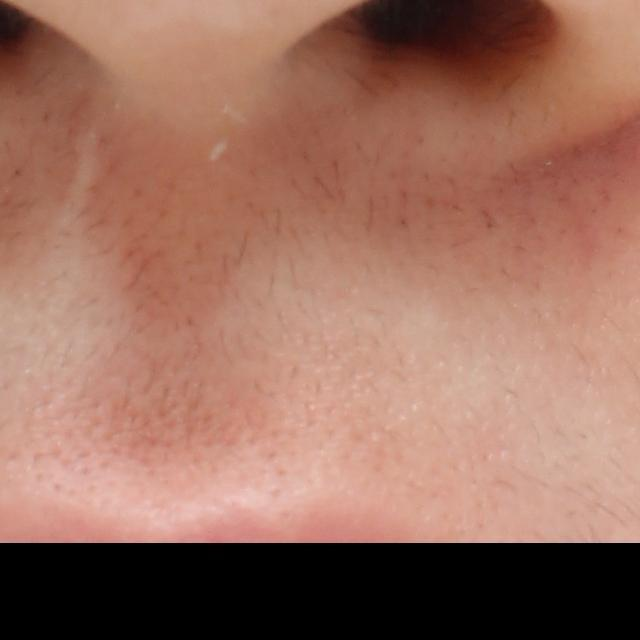other: (48, 122, 109, 250)
